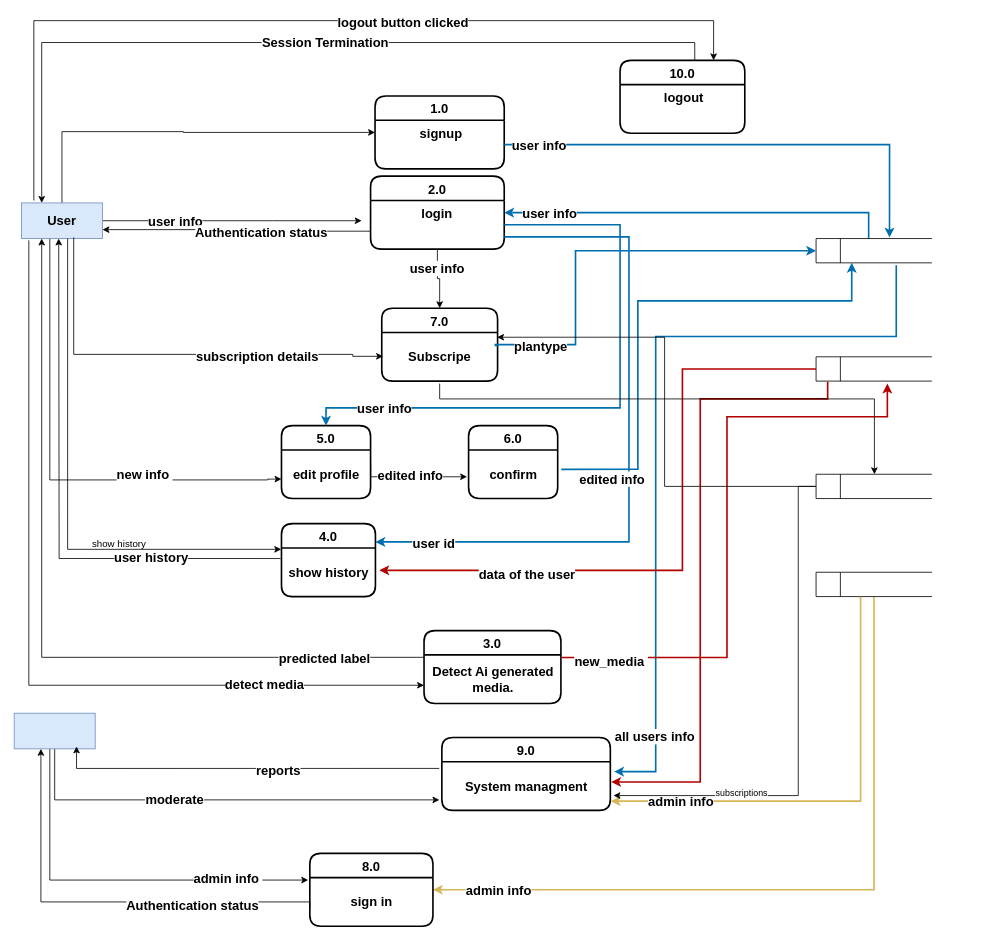
This 996x940 diagram has some shape labels left out. Each missing label, with the centre of its shape:
"Admin" belongs at [54,730].
"D1 user database" belongs at [873,250].
"D2 media_data database" belongs at [873,368].
"D3 subscriptions" belongs at [873,486].
"D4 admins database" belongs at [873,584].
